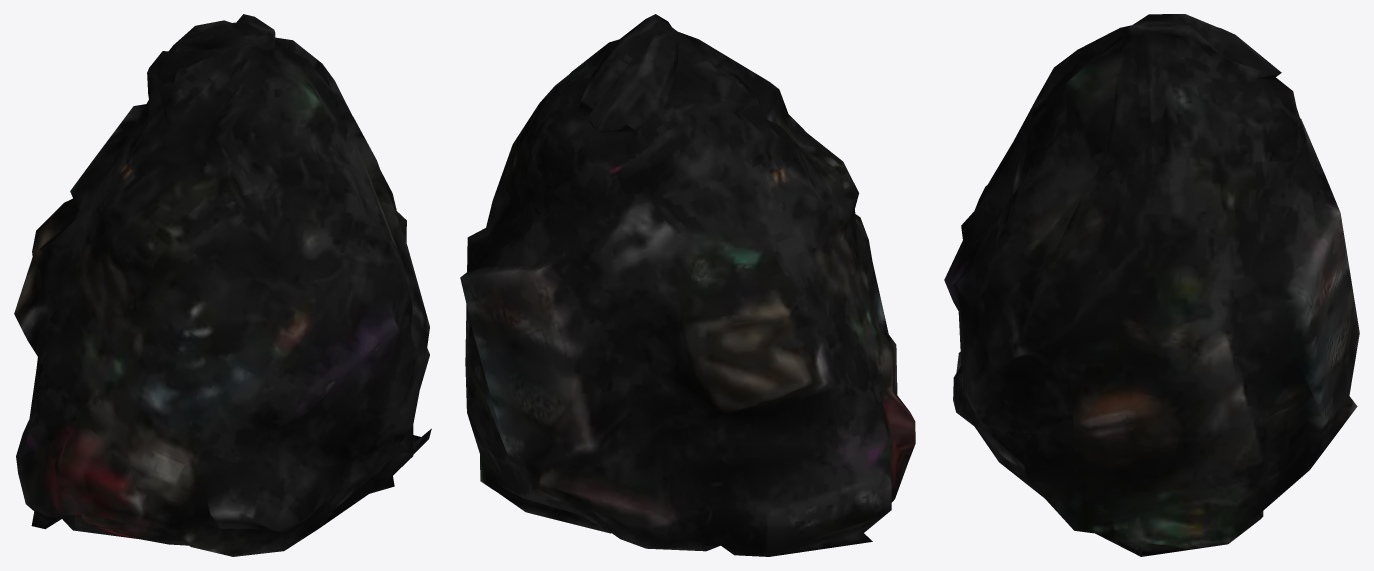
Rendered from trashbag.glb.
3 views of the same model, side by side, from view 1: azimuth 30°, elevation 25°; view 2: azimuth 150°, elevation 25°; view 3: azimuth 270°, elevation 25° (orthographic). The views are drawn at different scales.
Visible parts, largest first — view 1: trashbag; view 2: trashbag; view 3: trashbag.
Part boxes in pixels (x1,y1,x2,y2): trashbag: (14,14,431,556); trashbag: (460,14,915,556); trashbag: (944,14,1359,556).
Bounding box in the file's own units: 0.5281 × 0.5684 × 0.4629.
1 material, 1 textured.
